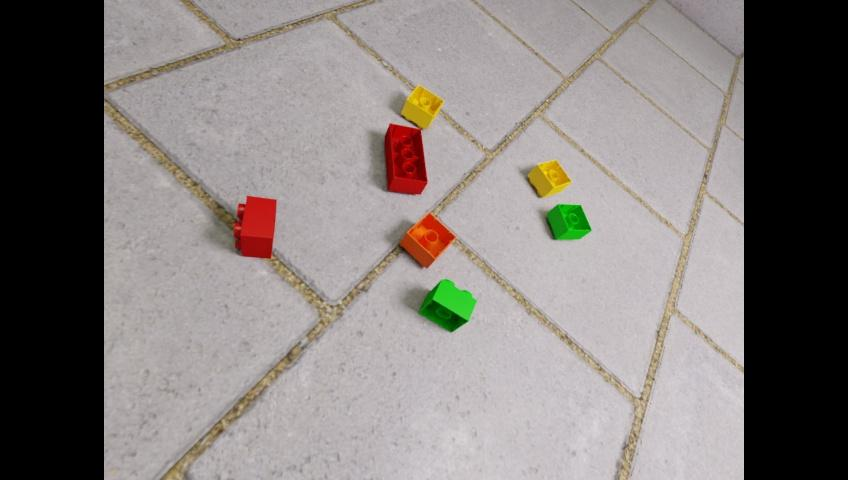2x2_green: (418, 278, 476, 332), (546, 203, 591, 239)
2x2_orange: (399, 212, 455, 268)
2x2_red: (233, 195, 275, 258)
2x2_yellow: (401, 84, 443, 129), (527, 159, 571, 197)
4x2_red: (384, 122, 427, 194)
